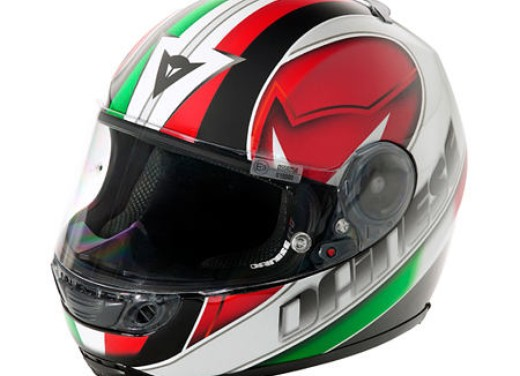helmet: (86, 4, 480, 350)
